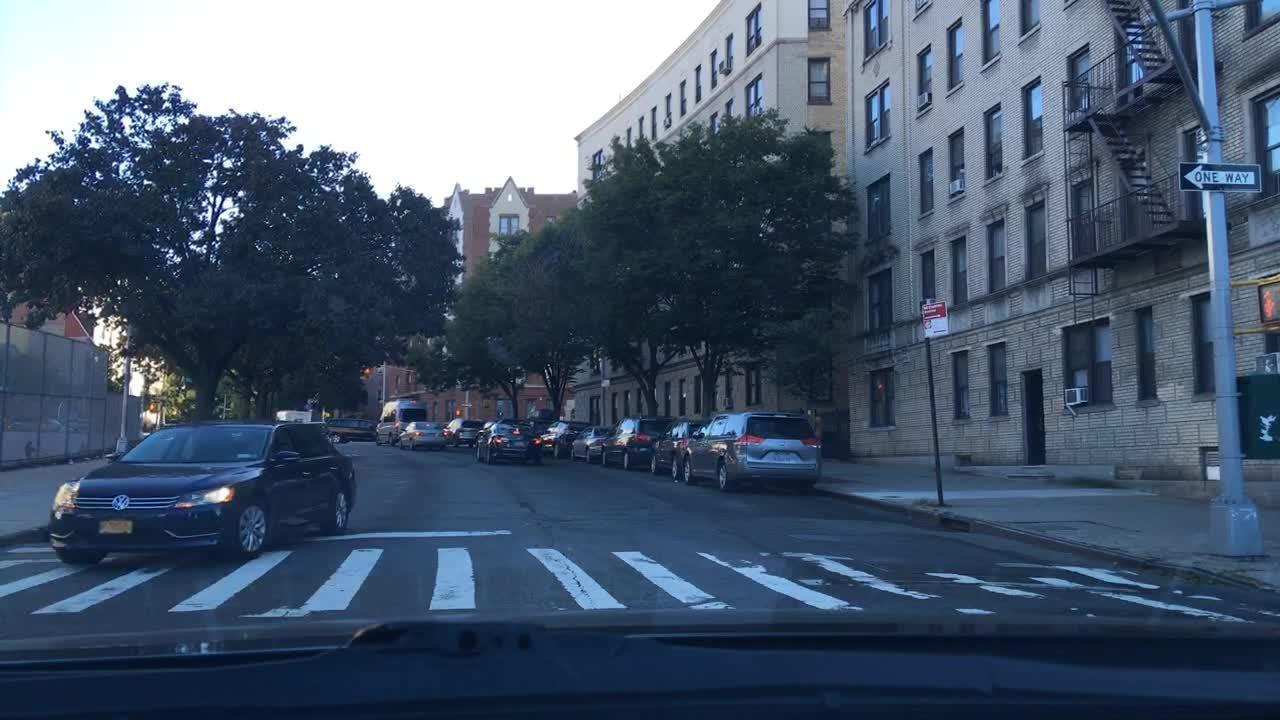Volkswagen: (106, 490, 131, 516)
